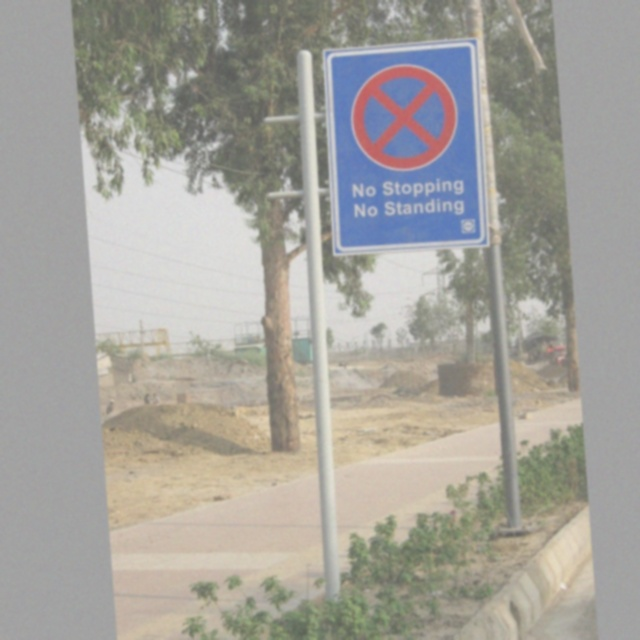No_Stopping_or_Standing: (338, 46, 467, 180)
